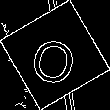O_N: (28, 25, 82, 85)
